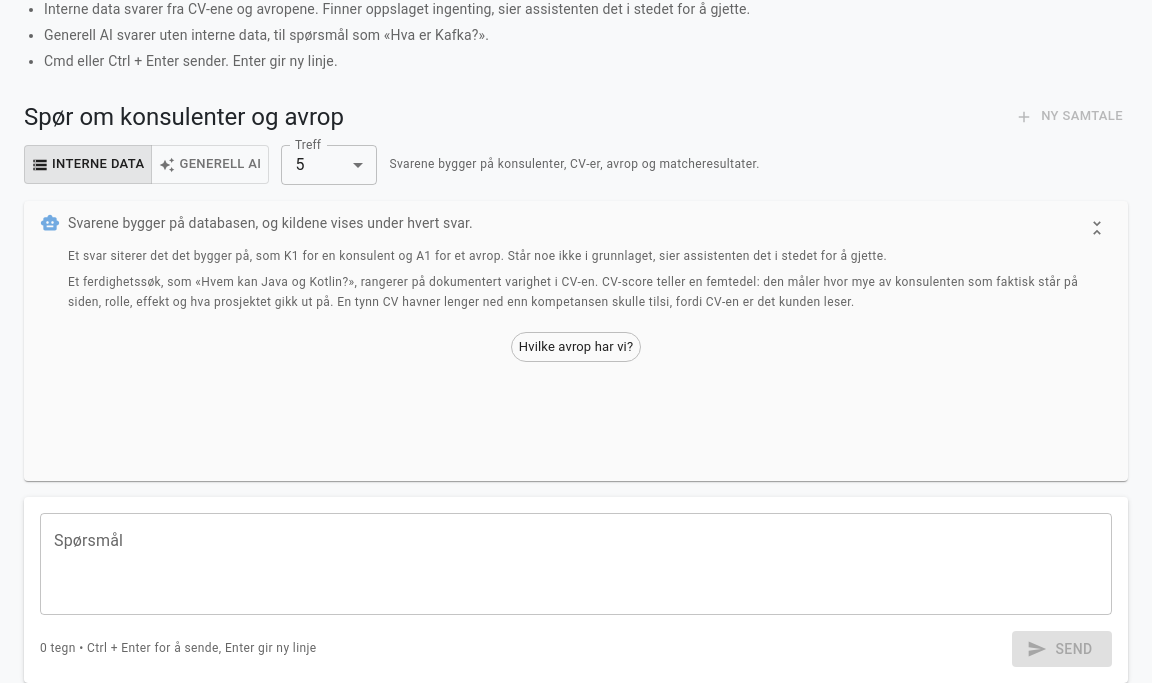
Test: ChatAssistantPage › labels a new evaluation differently from a stored match
(page scrolled)
Replace the text in the text box labelled "Spørsmål" with "Passer Thomas til avrop 8?". click: (576, 564)
box: [54, 529, 1098, 598]
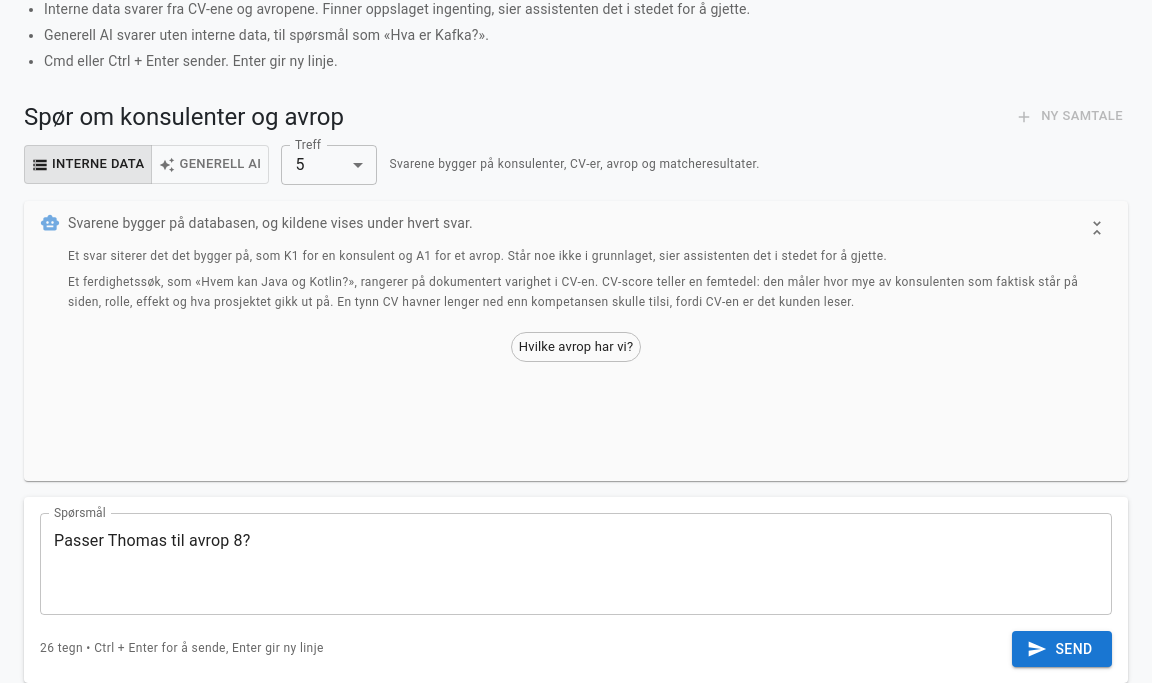
Click the button "Send". click: click(1062, 649)
box: [1012, 631, 1112, 667]
(page scrolled)
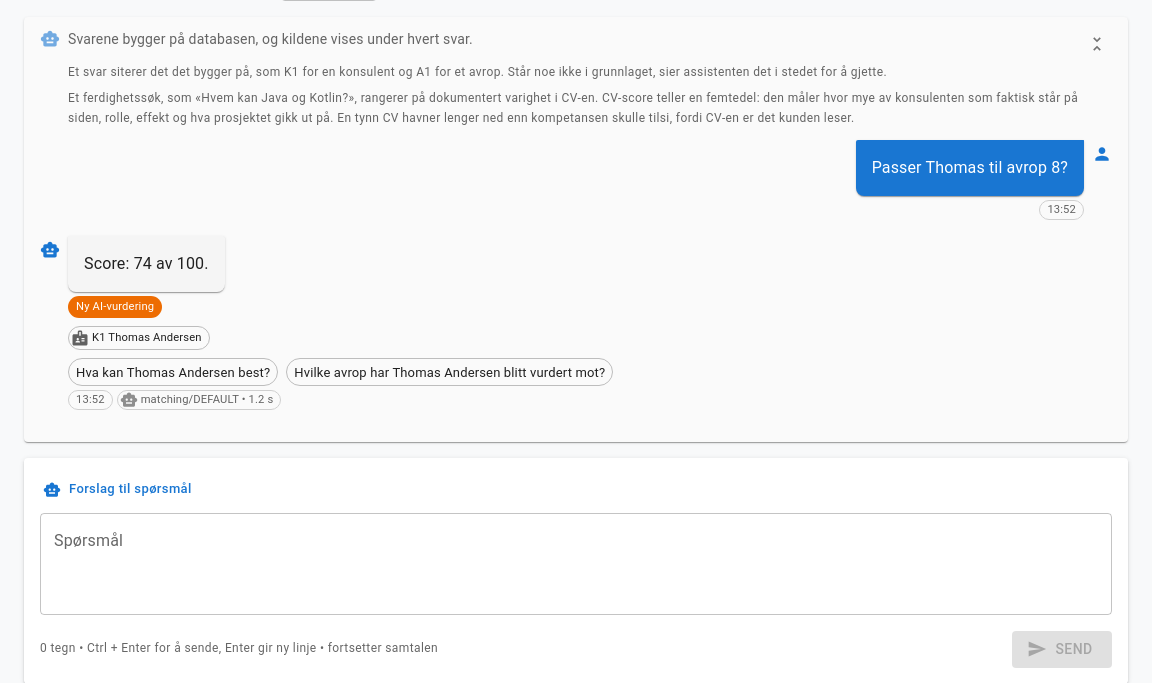
Expected: the text "Ny AI-vurdering" is shown, [76, 300, 154, 313]
